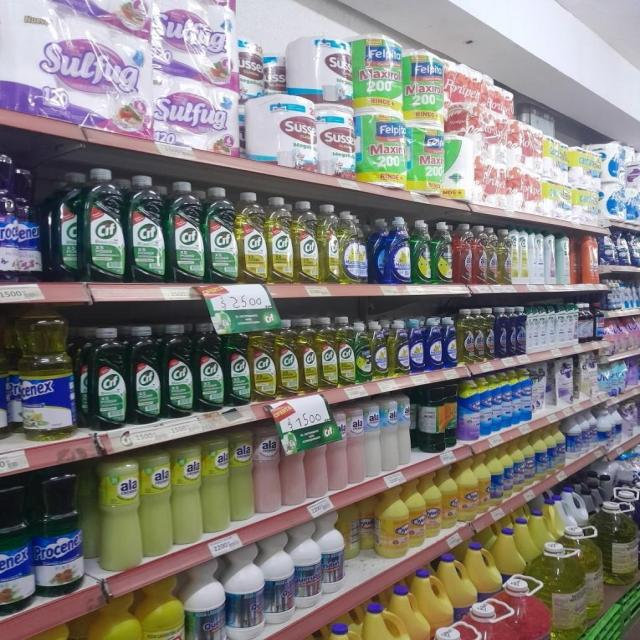ala_conc_amarillo: (458, 308, 474, 365), (498, 228, 512, 285), (486, 226, 498, 285), (474, 308, 486, 362), (484, 307, 495, 362)
ala_conc_azul: (509, 306, 523, 356), (496, 307, 506, 358)
ala_conc_rojo: (454, 223, 472, 285), (473, 224, 486, 284)
ala_crem_amarillo: (97, 455, 141, 572), (141, 449, 172, 559), (172, 442, 202, 546), (202, 434, 230, 534), (230, 428, 254, 522)
ala_crem_blanco: (365, 401, 381, 478), (382, 397, 398, 472), (399, 396, 413, 468)
ala_crem_rosado: (254, 422, 281, 516), (328, 410, 347, 492), (348, 404, 365, 484)
cif_conc_bot_amarilla: (238, 192, 266, 284), (267, 195, 293, 284), (293, 199, 318, 284), (250, 321, 276, 402), (276, 319, 298, 397), (318, 203, 339, 284), (298, 318, 317, 392), (318, 317, 337, 389), (337, 316, 354, 386)
cif_conc_botella_verde: (82, 326, 127, 431), (84, 168, 125, 282), (127, 174, 166, 283), (168, 180, 204, 284), (51, 170, 83, 281), (128, 324, 161, 424), (204, 185, 237, 284), (162, 323, 193, 419), (194, 321, 223, 412), (224, 323, 250, 406)
magistral_con_amarillo: (340, 210, 367, 284), (388, 319, 408, 376), (372, 320, 388, 380)
magistral_con_azul: (369, 216, 387, 284), (409, 318, 425, 373), (426, 317, 442, 371), (442, 316, 458, 368)
